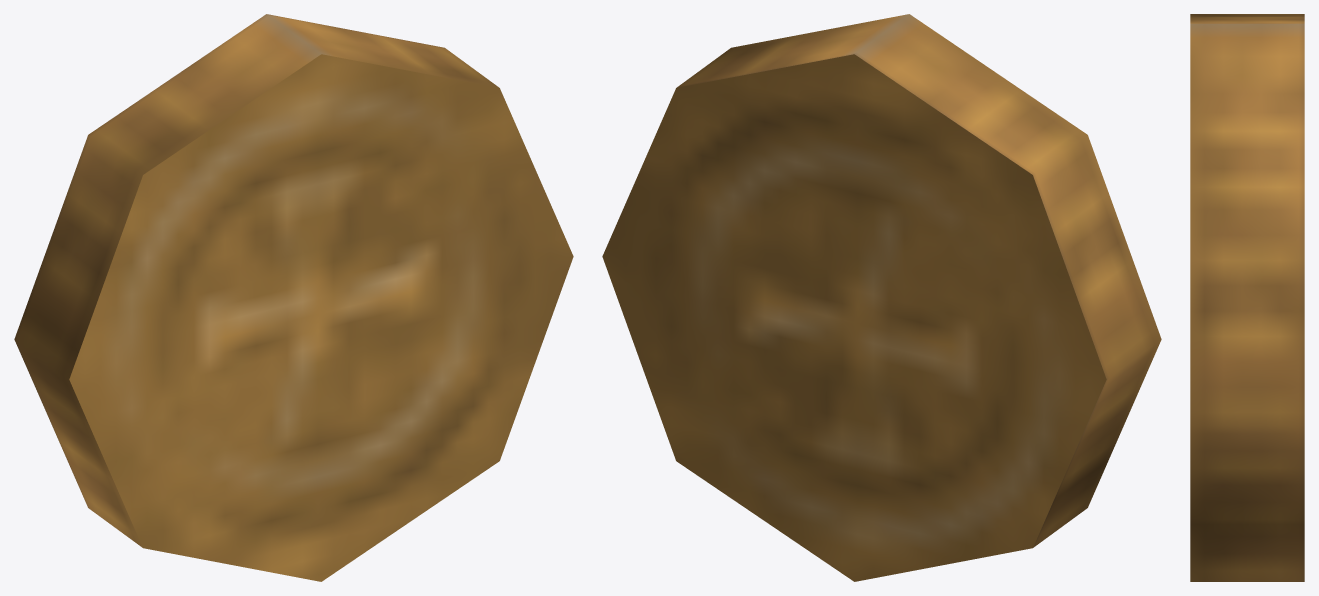
Rendered from Coin_Gold.fbx.
3 renders of one model, left to right at view 1: azimuth 30°, elevation 25°; view 2: azimuth 150°, elevation 25°; view 3: azimuth 270°, elevation 25°, orthographic. The views are drawn at different scales.
Visible parts, largest first — view 1: Coin_Gold; view 2: Coin_Gold; view 3: Coin_Gold.
Part boxes in pixels (<box>): Coin_Gold: <box>14,14,573,581</box>; Coin_Gold: <box>602,14,1161,581</box>; Coin_Gold: <box>1190,14,1304,581</box>.
Bounding box in the file's own units: 0.1707 × 0.1707 × 0.0322.
